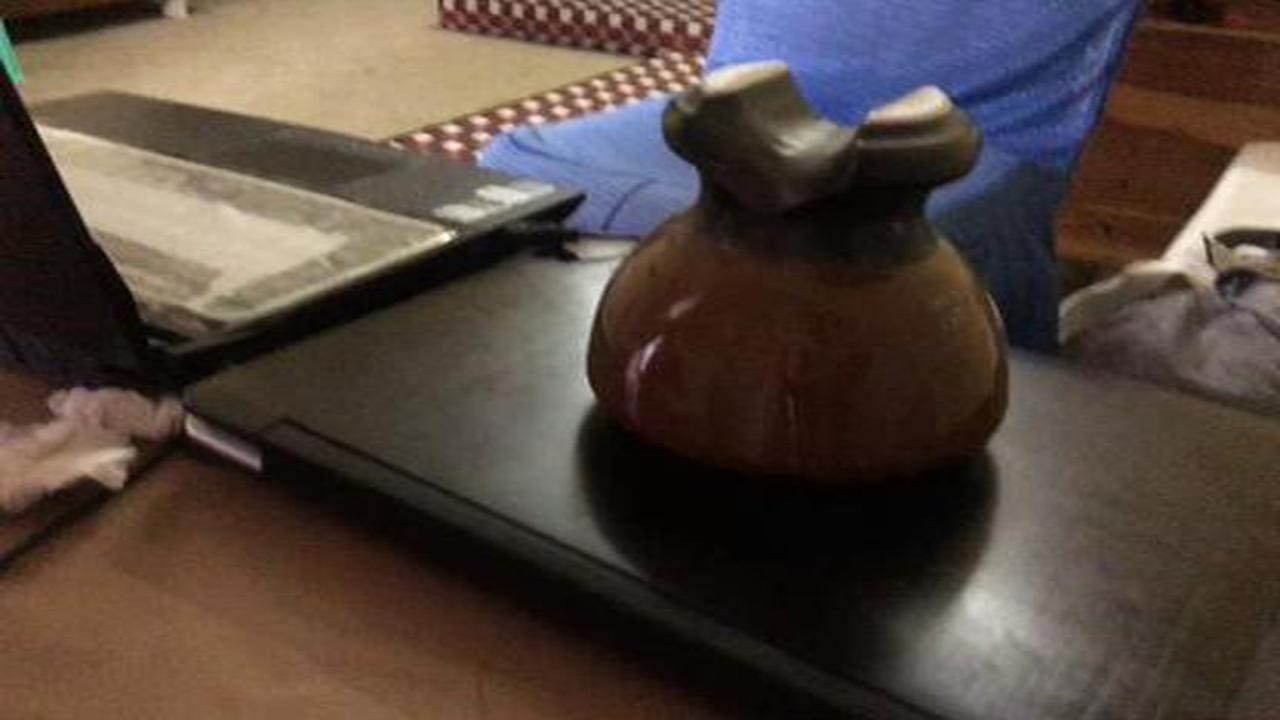insulator_pin: (576, 49, 1050, 508)
